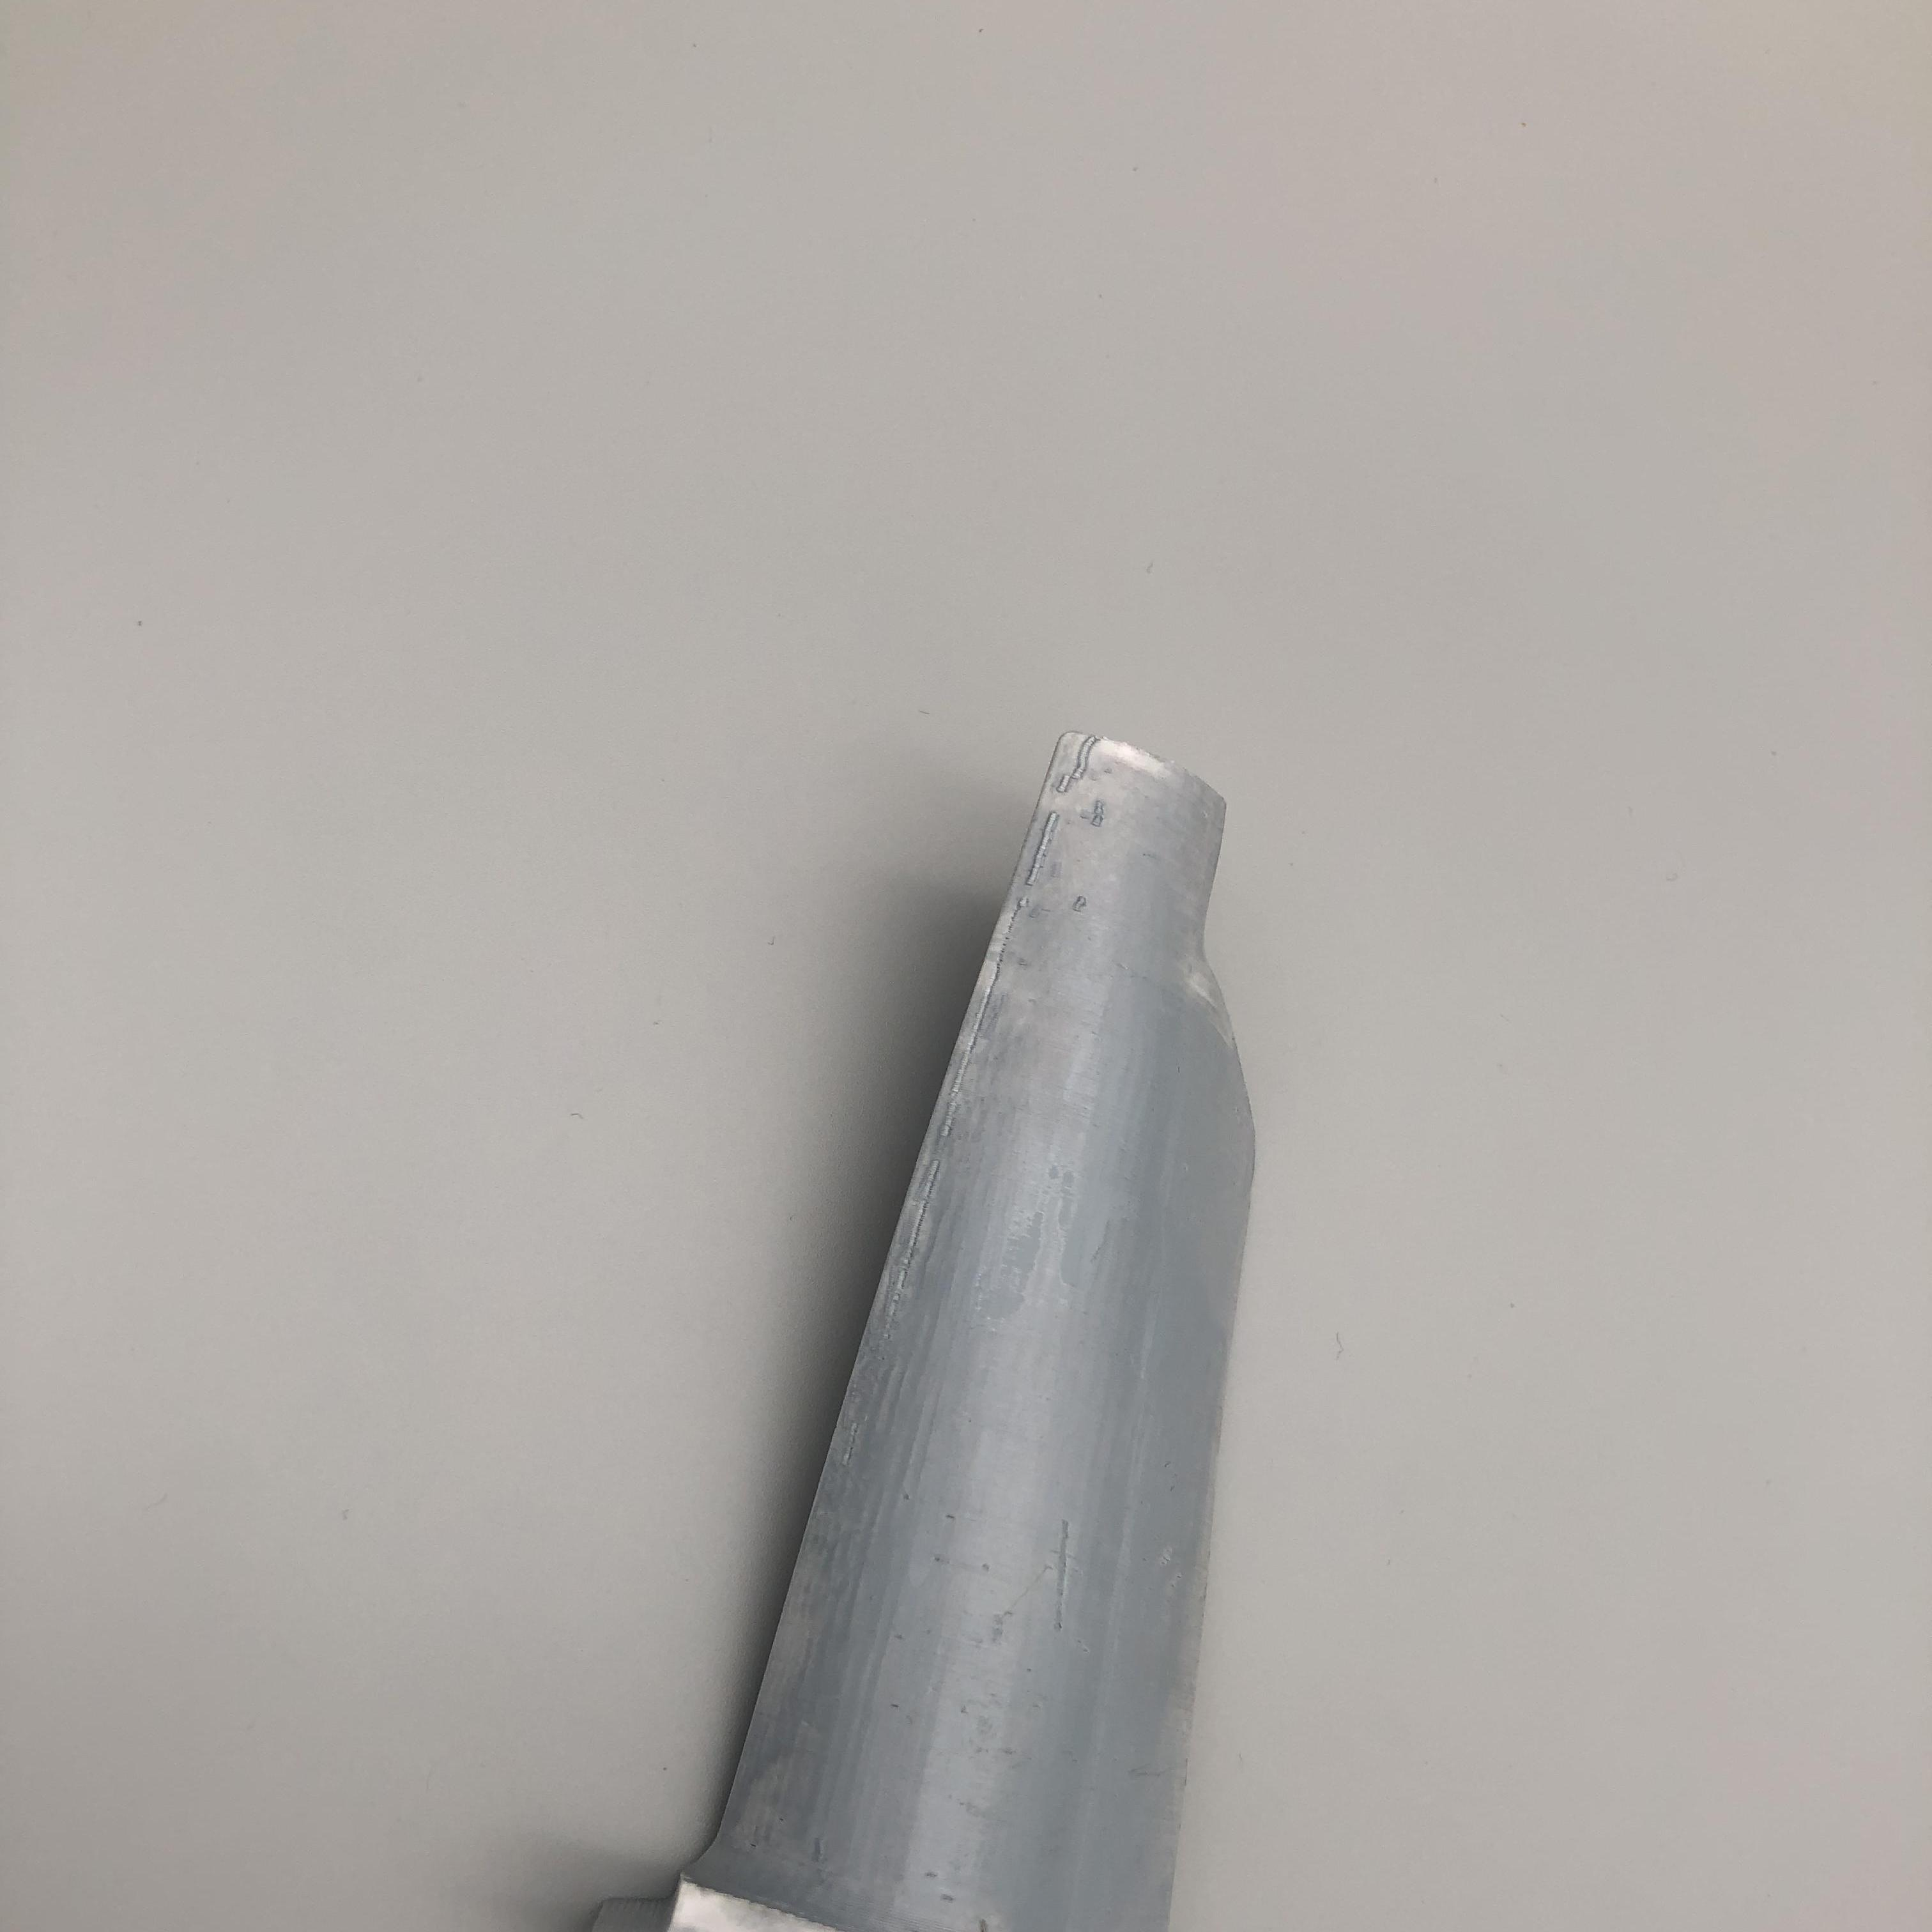fracture: (1187, 789, 1304, 1143)
